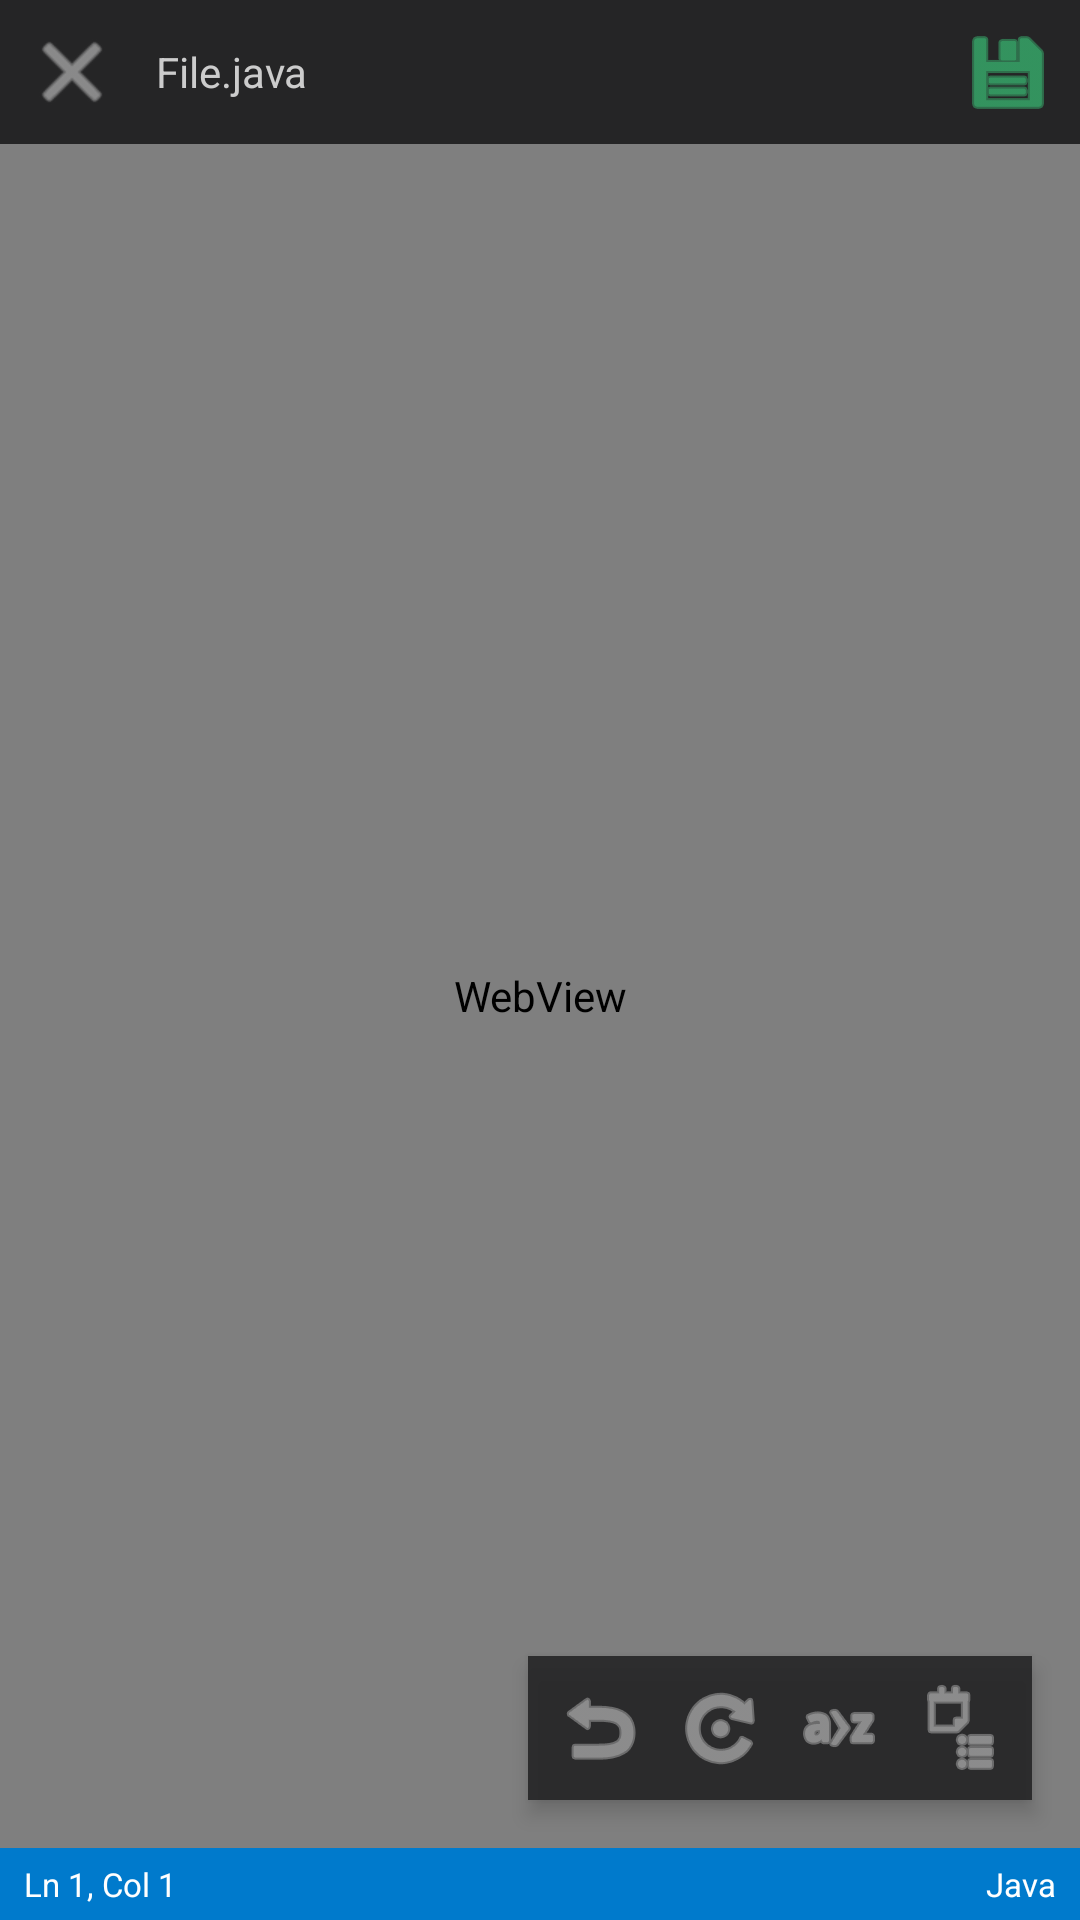

Screen size 1080×1920. Icon name, then its box in pixels as (x1, y1, x2, y2):
agenda: (927, 1685, 994, 1770)
close clear cancel: (42, 42, 102, 102)
revert: (567, 1698, 636, 1760)
rotate: (685, 1693, 755, 1764)
save: (972, 36, 1044, 109)
sort alphabetically: (803, 1709, 875, 1747)
